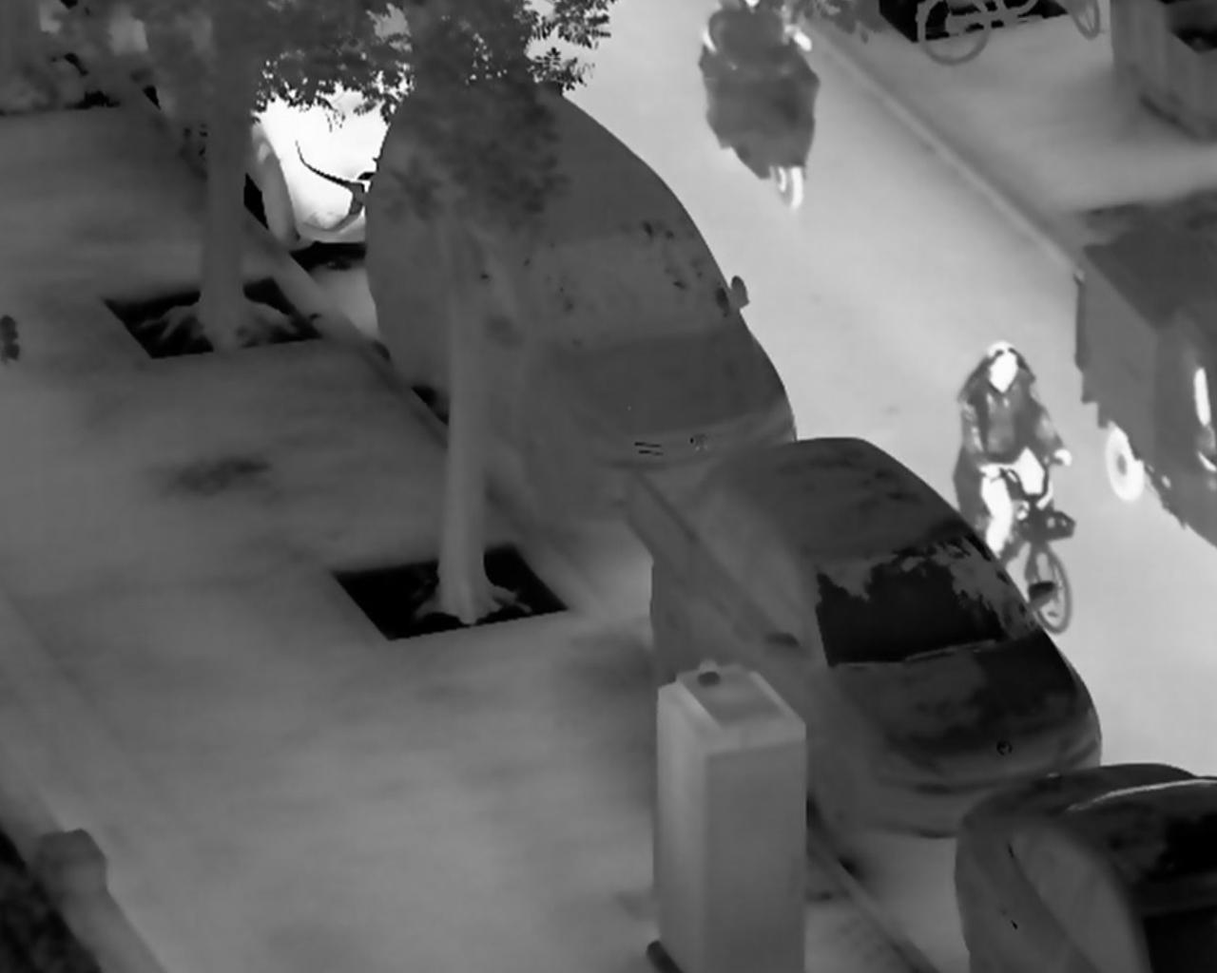person: (953, 338, 1074, 561)
